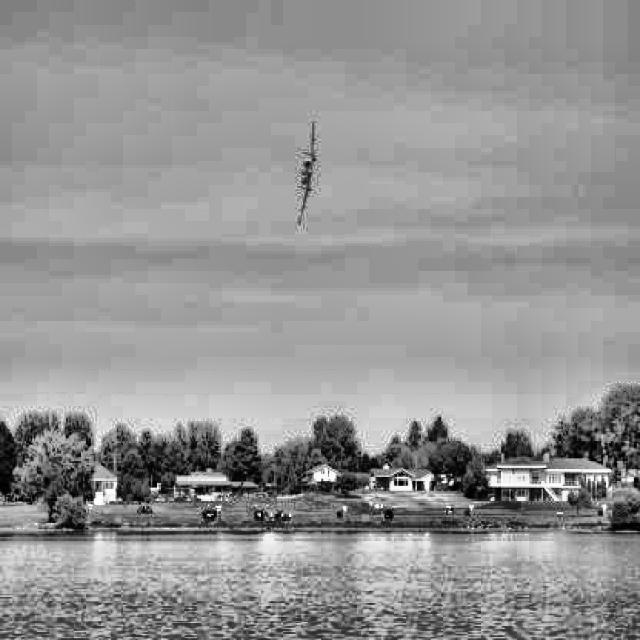A10: (298, 120, 316, 225)
